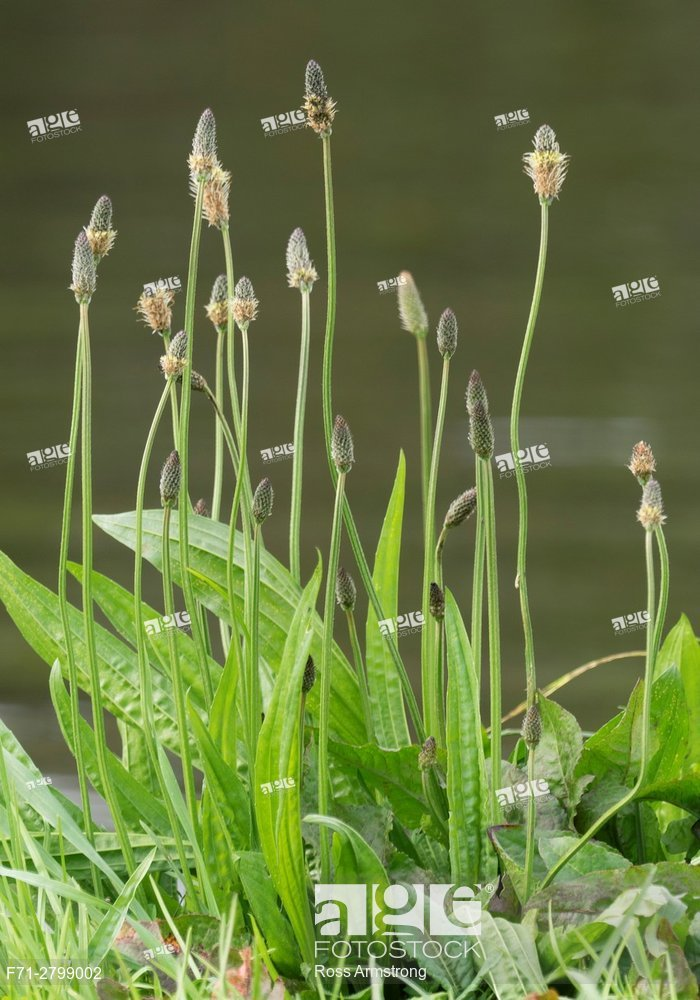buckhorn plantain: (10, 40, 659, 972)
